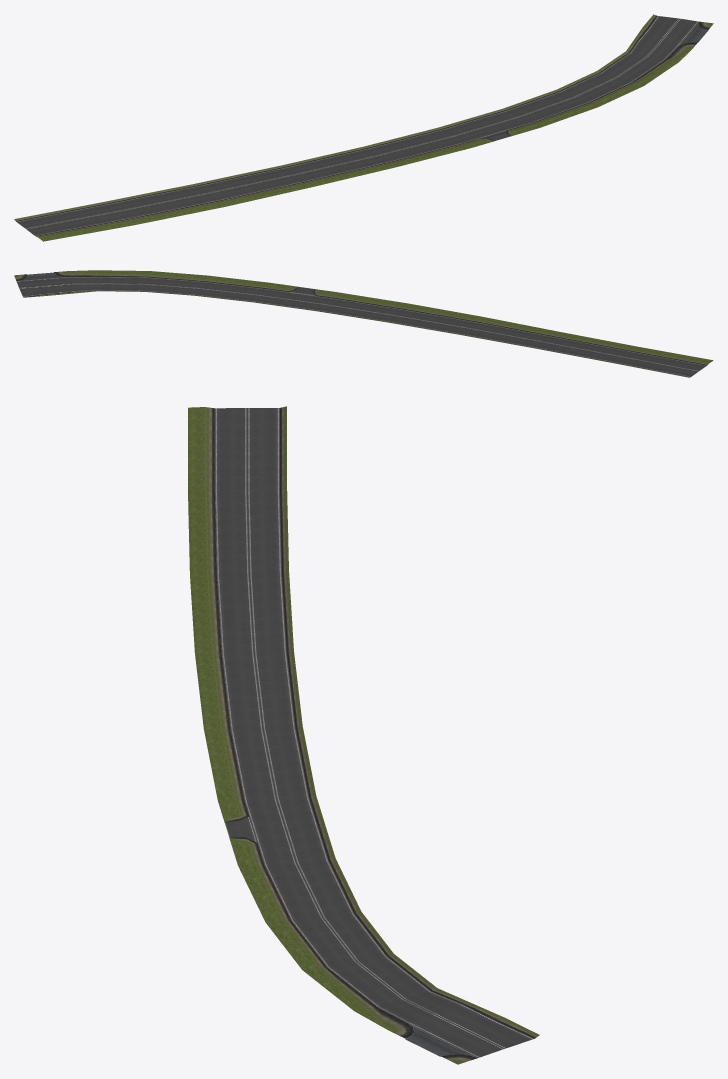
The model's file is cunte_roads15.obj.
3 renders of one model, top to bottom at view 1: azimuth 30°, elevation 25°; view 2: azimuth 150°, elevation 25°; view 3: azimuth 270°, elevation 25°, orthographic. The views are drawn at different scales.
Visible parts, largest first — view 1: cunte_roads15; view 2: cunte_roads15; view 3: cunte_roads15.
Part boxes in pixels (x1=…): cunte_roads15: x1=14, y1=14, x2=713, y2=241; cunte_roads15: x1=14, y1=270, x2=713, y2=377; cunte_roads15: x1=188, y1=406, x2=539, y2=1064.
Size of the model in its own units: 270 by 8.92 by 65.15.
